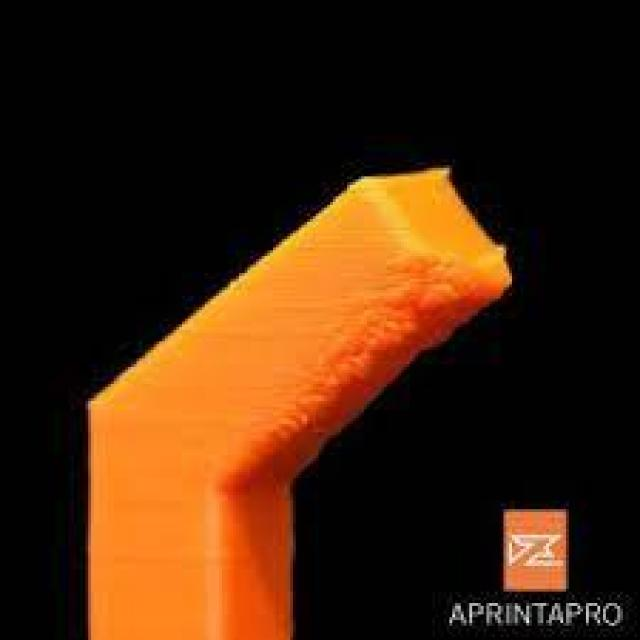spaghetti: (230, 246, 525, 488)
